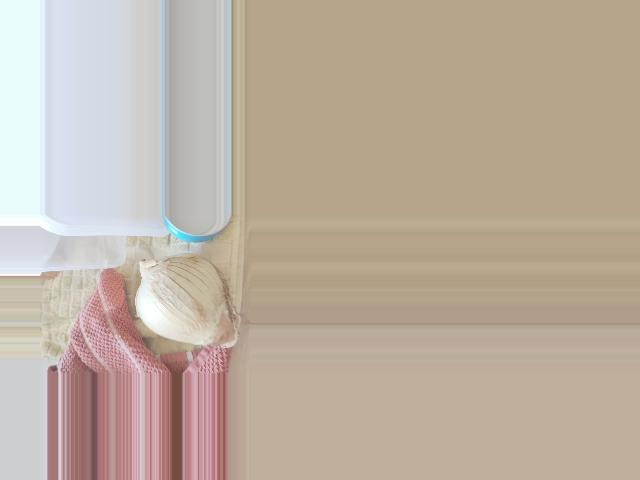onion: (136, 252, 236, 348)
